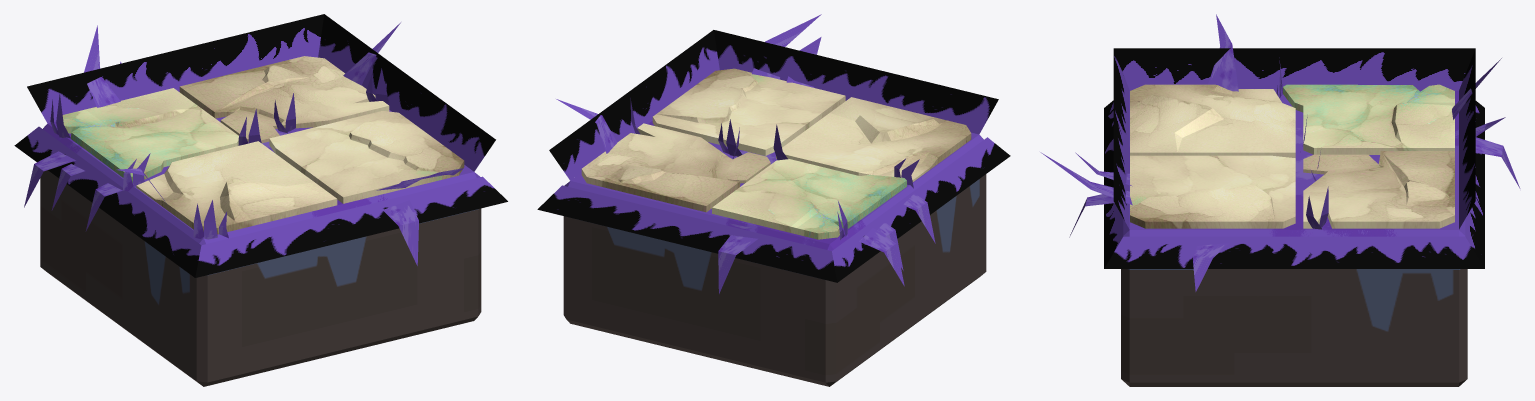
The model's file is tilegrasspurple003.glb.
The picture shows the model from 3 angles, left to right: view 1: azimuth 30°, elevation 25°; view 2: azimuth 150°, elevation 25°; view 3: azimuth 270°, elevation 25°; orthographic projection. The views are drawn at different scales.
Parts seen in each view (by area): view 1: tilegrasspurple003; view 2: tilegrasspurple003; view 3: tilegrasspurple003.
Part boxes in pixels (box(x1,y1,x2,y2)): tilegrasspurple003: box(14, 14, 507, 386); tilegrasspurple003: box(537, 14, 1010, 386); tilegrasspurple003: box(1040, 14, 1520, 386).
Size of the model in its own units: 1.3 by 0.7231 by 1.39.
2 materials, 2 textured.
